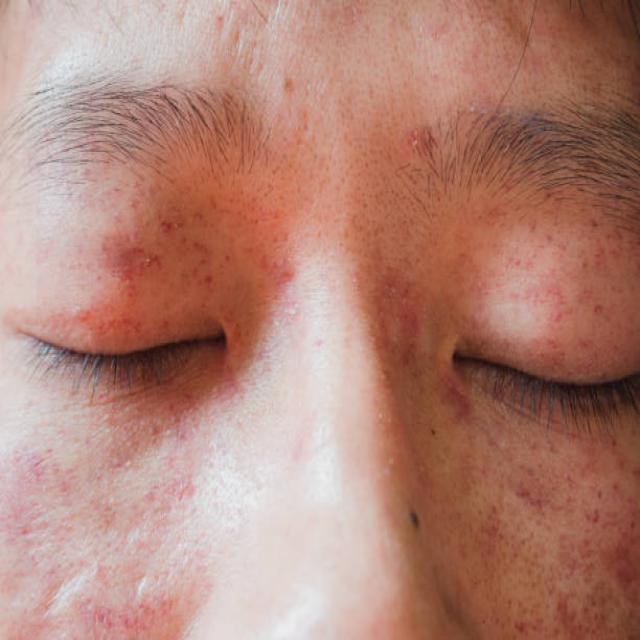Eczema: (462, 492, 640, 640), (44, 212, 220, 311)
